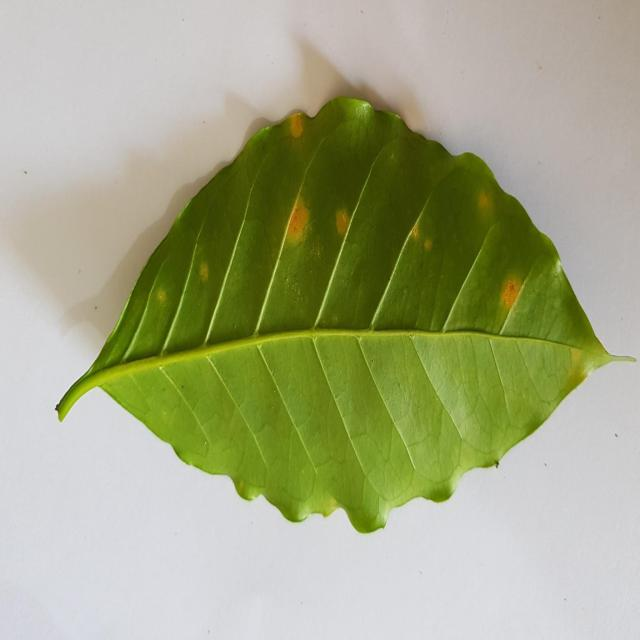Enfermedad-Roya: (54, 97, 629, 536)
